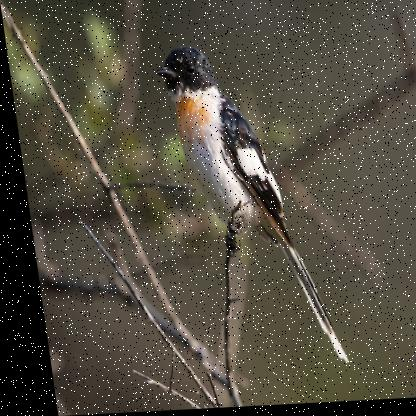Burung: (150, 43, 337, 370)
